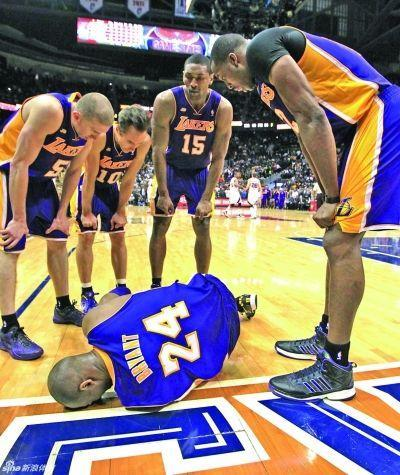bending: (207, 19, 399, 403), (1, 88, 119, 362), (149, 52, 235, 290), (74, 104, 154, 300)
down: (41, 266, 263, 414)
